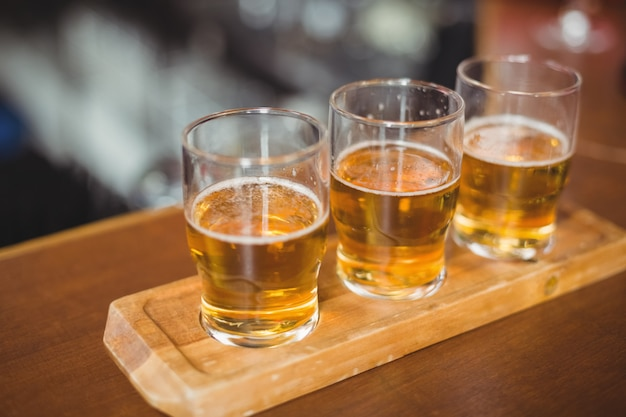alcohol: (180, 105, 334, 349), (326, 76, 461, 303), (455, 43, 586, 264)
